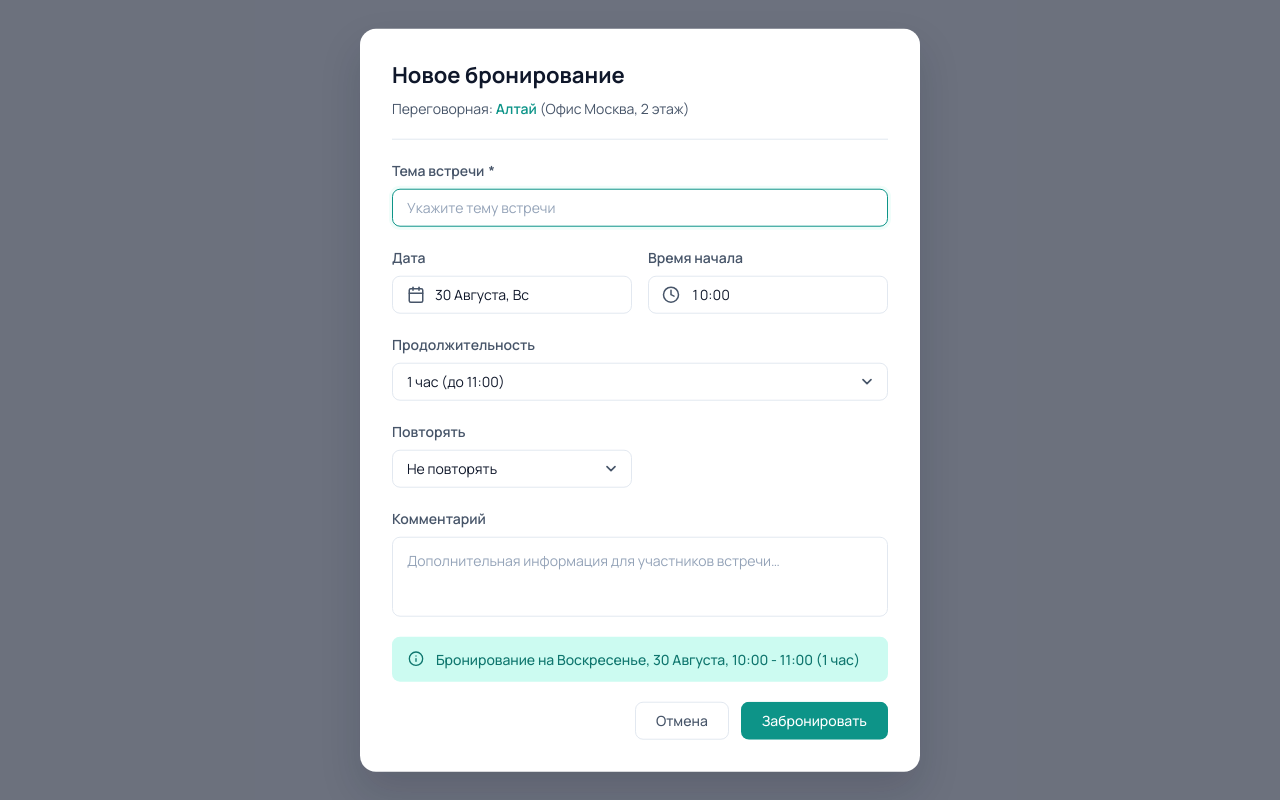
Test: CreateBookingDialog › серия: создаёт несколько броней и показывает сводку
Step 1. Type "Ежедневный синк" into the field labelled "Тема встречи*" → (640, 207), box [392,188,888,226]
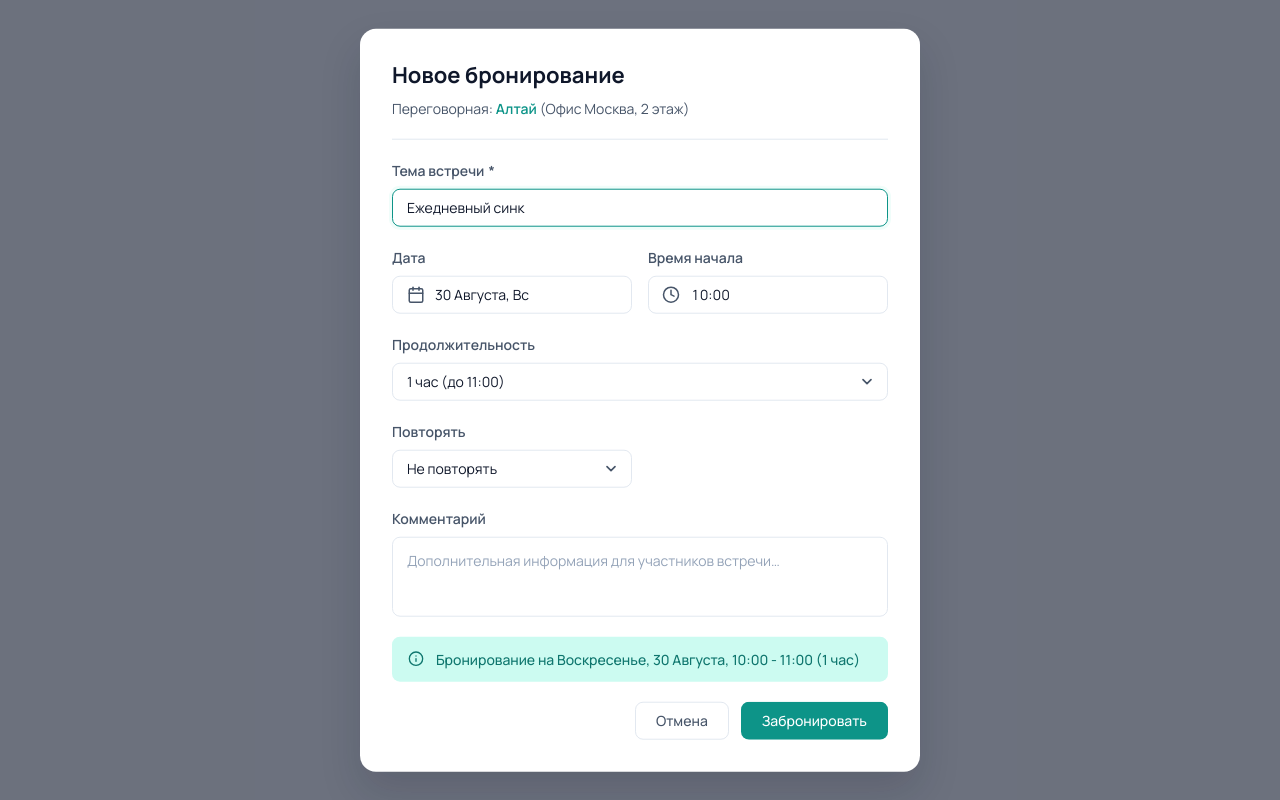
Step 2. Select "Еженедельно" in the dropdown labelled "Повторять" → (429, 431), box [392,421,466,440]
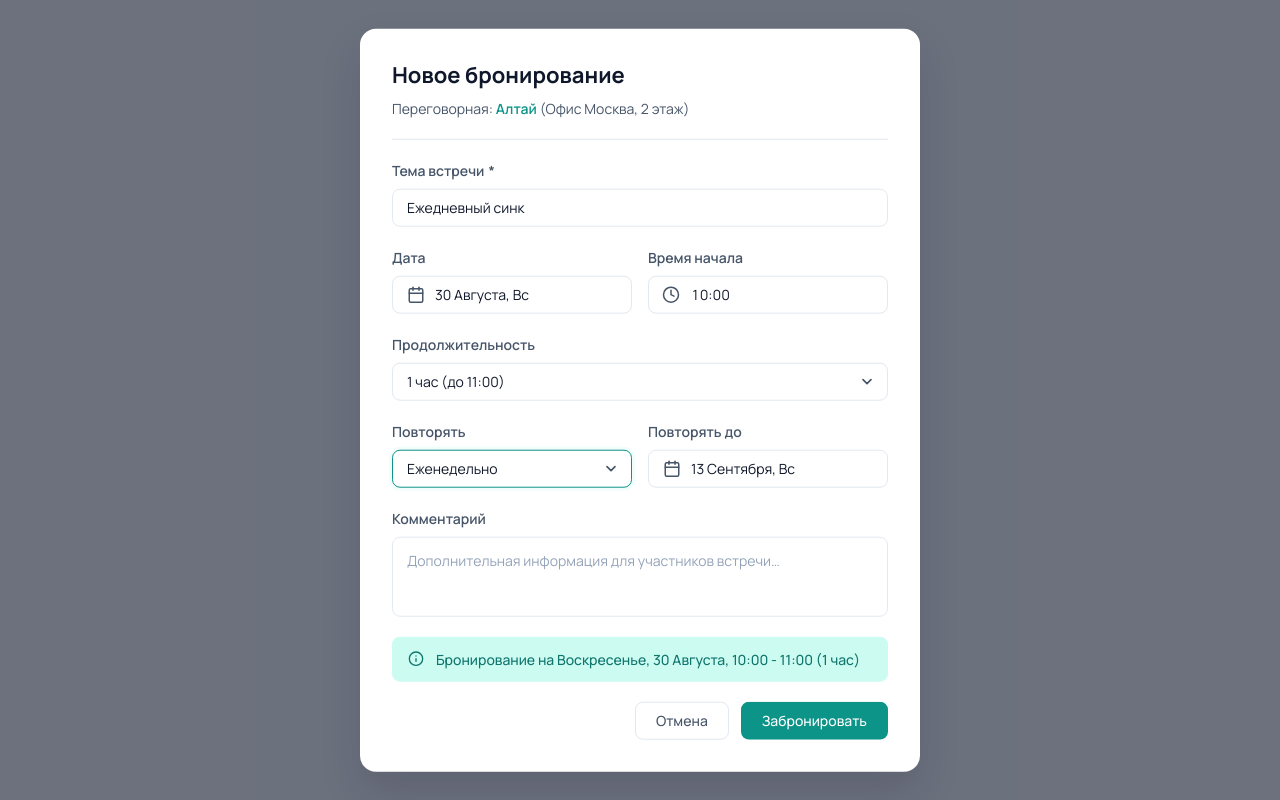
Step 3. Click the button "Забронировать" → (814, 720), box [741,701,888,739]
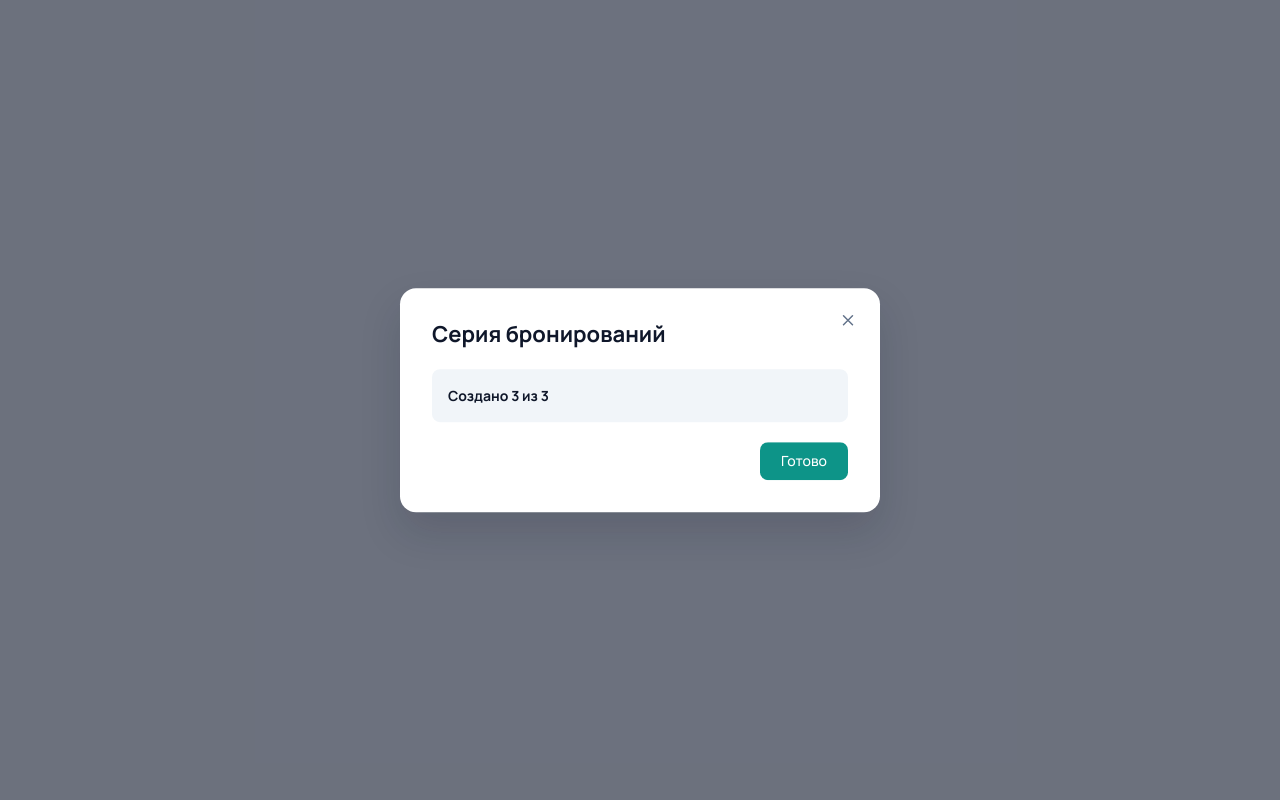
Expected: the dialog "Серия бронирований" is shown, [400,288,880,512]
Expected: the text "Создано 3 из 3" is shown, [448,386,549,405]
Expected: the button "Готово" is shown, [760,442,848,480]
